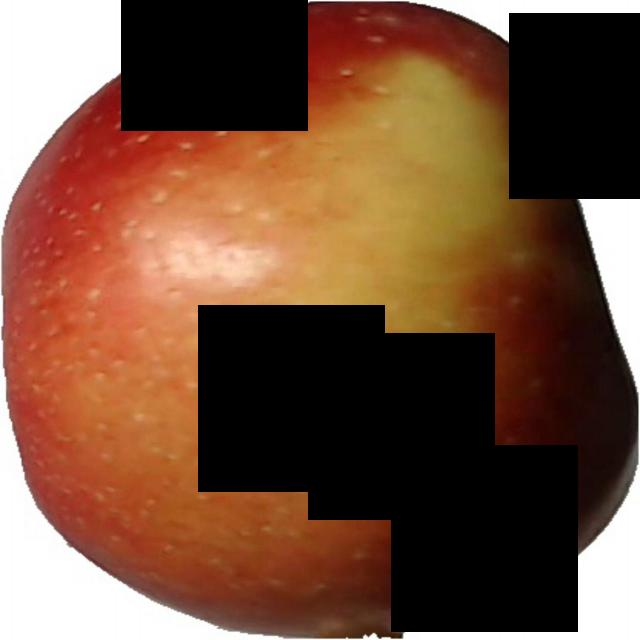apple: (2, 0, 639, 628)
